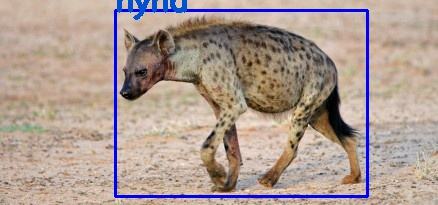hyna: (114, 10, 366, 195)
